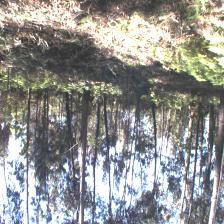trunktrack_idkeyframe: (80, 90, 90, 188), (185, 104, 198, 161), (101, 94, 110, 144), (208, 105, 215, 158), (64, 92, 72, 130), (151, 104, 157, 153), (26, 88, 31, 133), (96, 101, 100, 135)
